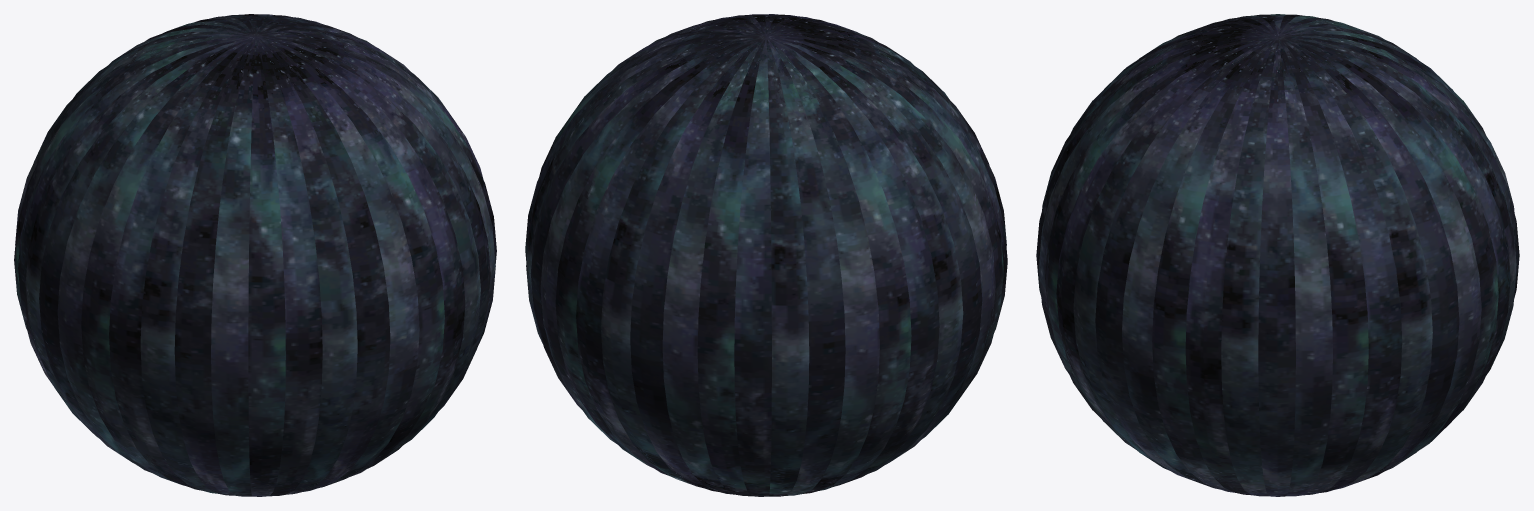
The model's file is dw_orb_power.dae.
3 views of the same model, side by side, from view 1: azimuth 30°, elevation 25°; view 2: azimuth 150°, elevation 25°; view 3: azimuth 270°, elevation 25° (orthographic).
Parts seen in each view (by area): view 1: dw_orb_energyfx, dw_orb_energypower; view 2: dw_orb_energypower, dw_orb_energyfx; view 3: dw_orb_energypower, dw_orb_energyfx.
Part boxes in pixels (x1,y1,x2,y2): dw_orb_energyfx: (15, 14, 495, 496); dw_orb_energypower: (14, 14, 496, 496); dw_orb_energypower: (525, 14, 1007, 496); dw_orb_energyfx: (526, 14, 1006, 496); dw_orb_energypower: (1039, 14, 1516, 496); dw_orb_energyfx: (1036, 14, 1519, 496).
Bounding box in the file's own units: 17.06 × 17.06 × 17.06.
